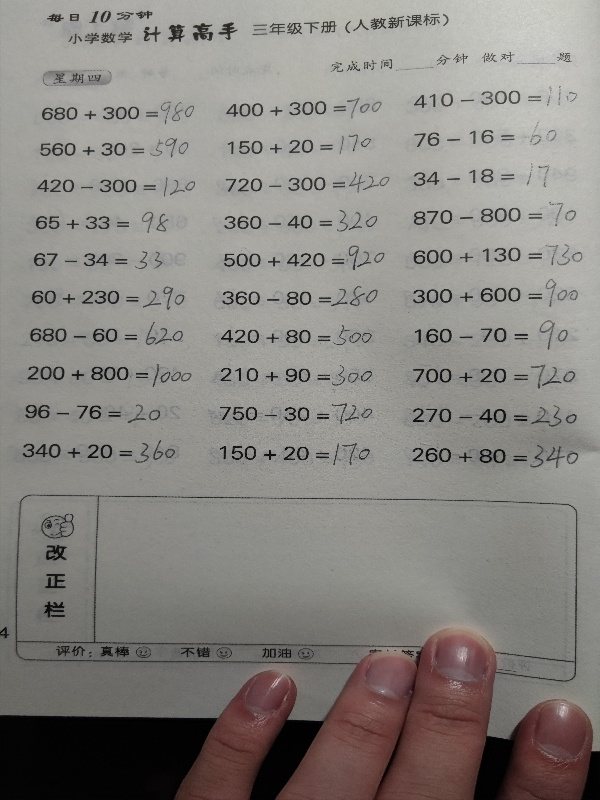equation: (410, 279, 582, 311), (411, 316, 571, 350), (409, 441, 583, 472), (221, 242, 389, 274), (24, 360, 196, 391), (409, 196, 581, 227), (410, 361, 580, 392), (25, 320, 186, 352), (410, 401, 581, 431), (410, 116, 562, 149), (28, 283, 189, 314), (410, 80, 582, 109), (39, 93, 199, 124), (221, 206, 382, 236), (18, 438, 178, 468), (219, 282, 382, 311), (221, 168, 393, 195), (218, 361, 377, 390), (216, 440, 374, 469), (218, 321, 376, 350), (216, 400, 377, 428), (35, 171, 201, 198), (409, 243, 583, 268), (32, 208, 172, 237), (224, 133, 374, 160), (410, 162, 555, 189), (36, 135, 197, 159), (222, 95, 380, 119), (22, 401, 165, 427), (30, 248, 166, 274)
